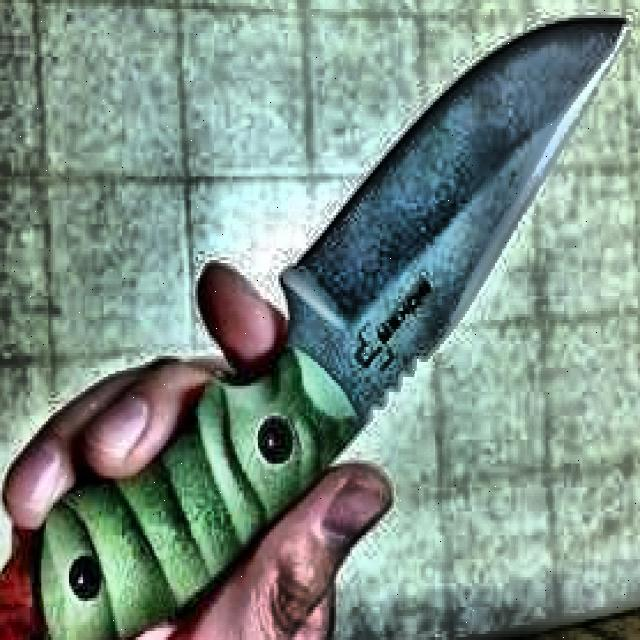knife: (37, 18, 631, 640)
